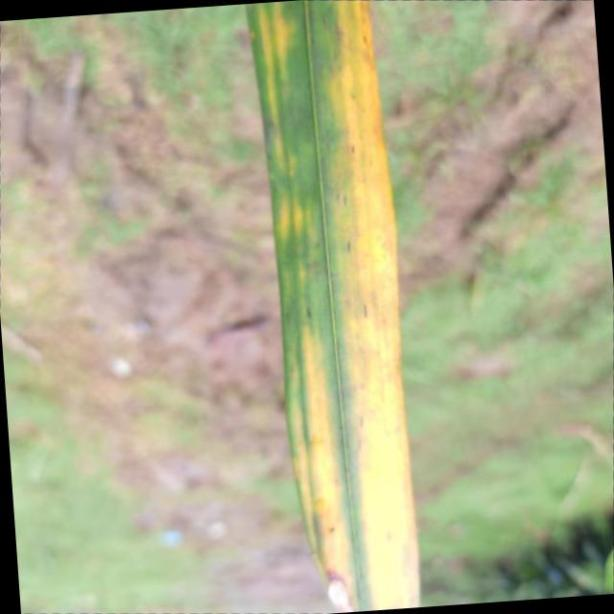Megnesium: (242, 0, 420, 614)
